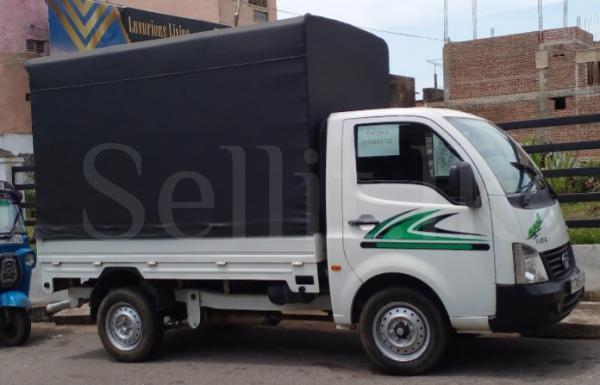truck: (23, 12, 584, 376)
